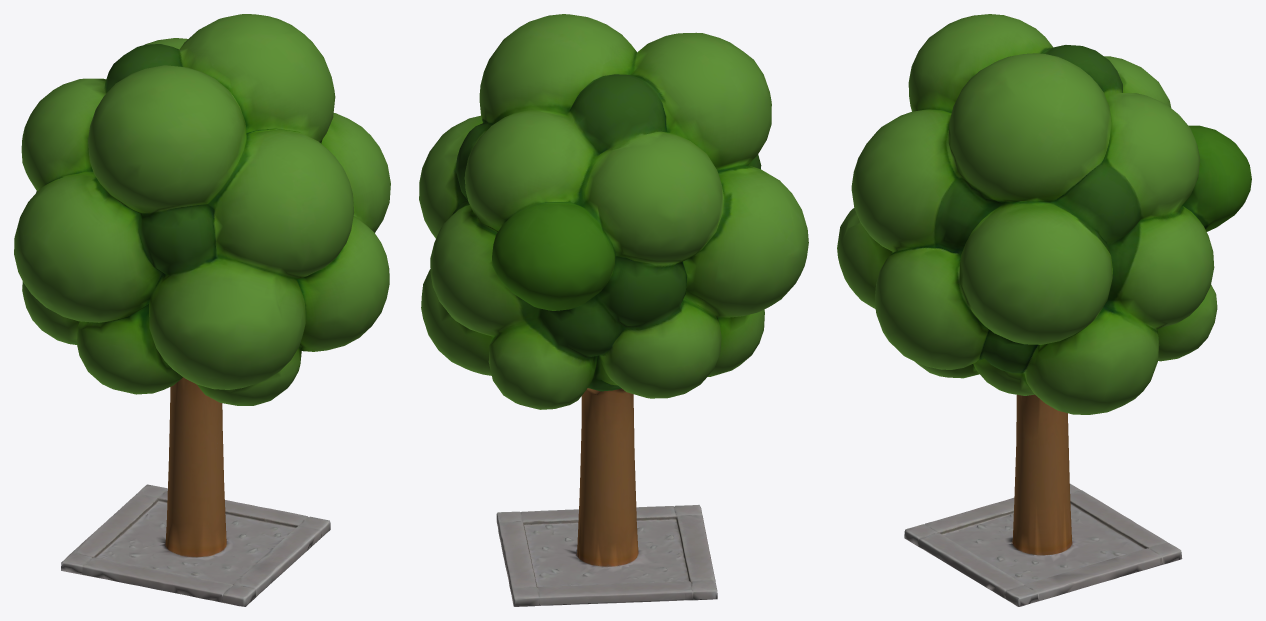
Rendered from tree2.glb.
The picture shows the model from 3 angles, left to right: view 1: azimuth 30°, elevation 25°; view 2: azimuth 150°, elevation 25°; view 3: azimuth 270°, elevation 25°; orthographic projection. The views are drawn at different scales.
Visible parts, largest first — view 1: tripo_node_e82362ec-c376-49cf-b3e4-904d1a5e7219; view 2: tripo_node_e82362ec-c376-49cf-b3e4-904d1a5e7219; view 3: tripo_node_e82362ec-c376-49cf-b3e4-904d1a5e7219.
Part boxes in pixels (x1,y1,x2,y2): tripo_node_e82362ec-c376-49cf-b3e4-904d1a5e7219: (14, 14, 390, 606); tripo_node_e82362ec-c376-49cf-b3e4-904d1a5e7219: (419, 14, 808, 606); tripo_node_e82362ec-c376-49cf-b3e4-904d1a5e7219: (837, 14, 1251, 606).
Bounding box in the file's own units: 0.7136 × 0.9794 × 0.7224.
Materials: 1 (1 with a texture image).
